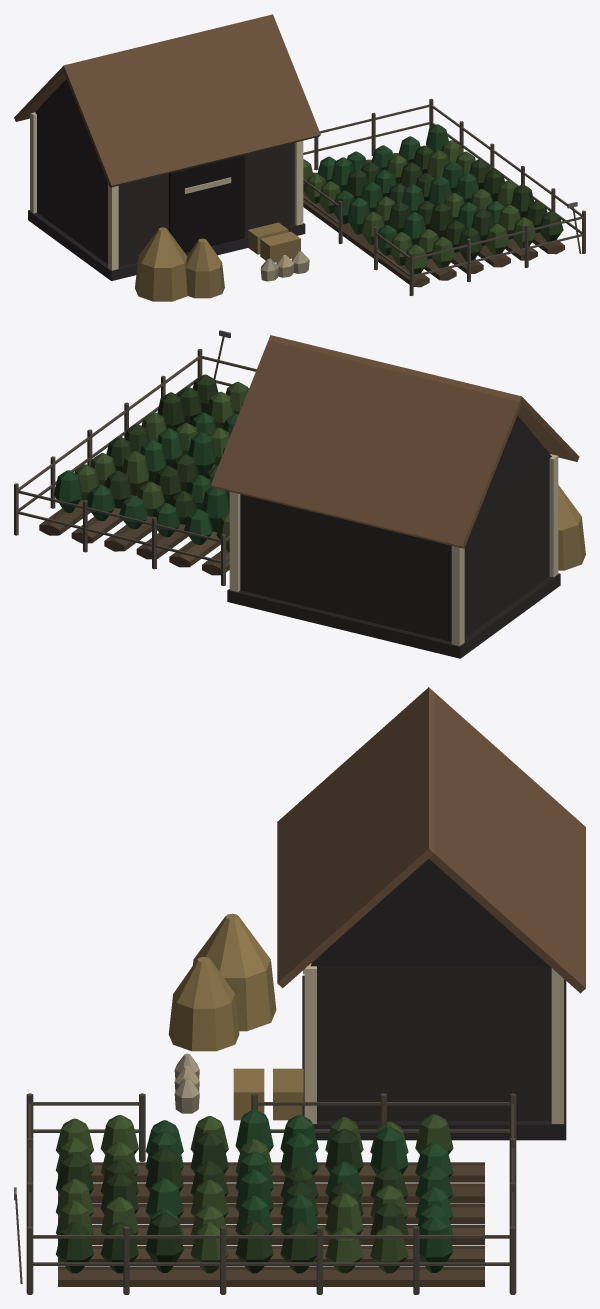
Rendered from walk_ashen_plantation.glb.
3 renders of one model, top to bottom at view 1: azimuth 30°, elevation 25°; view 2: azimuth 150°, elevation 25°; view 3: azimuth 270°, elevation 25°, orthographic. The views are drawn at different scales.
Visible parts, largest first — view 1: walk_ashen_plantation, walk_ashen_plantation_roof; view 2: walk_ashen_plantation, walk_ashen_plantation_roof; view 3: walk_ashen_plantation, walk_ashen_plantation_roof.
Boxes of the visible parts, x1,y1,x2,y2 form: walk_ashen_plantation: (28,79,585,301); walk_ashen_plantation_roof: (14,14,320,187); walk_ashen_plantation: (14,330,585,658); walk_ashen_plantation_roof: (211,335,579,548); walk_ashen_plantation: (14,858,566,1294); walk_ashen_plantation_roof: (277,687,585,993).
Size of what is drawn, in the model's own units: 12.85 by 6.04 by 10.18.
2 materials, 2 textured.
